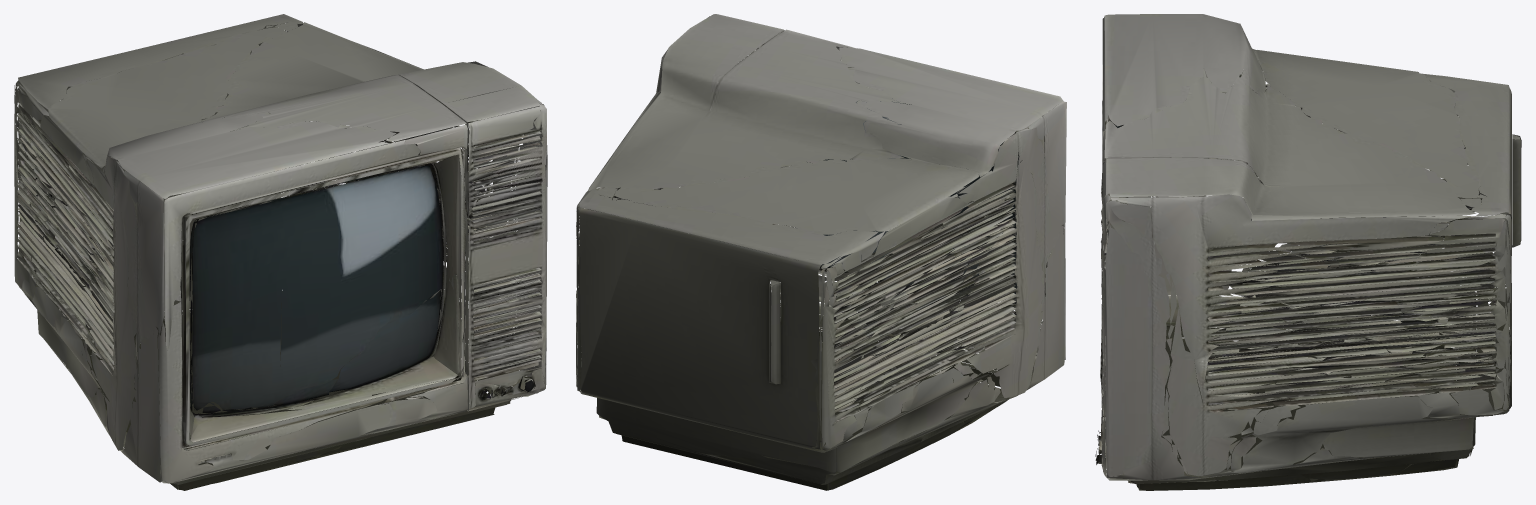
The picture shows the model from 3 angles, left to right: view 1: azimuth 30°, elevation 25°; view 2: azimuth 150°, elevation 25°; view 3: azimuth 270°, elevation 25°; orthographic projection. The views are drawn at different scales.
Visible parts, largest first — view 1: node_0; view 2: node_0; view 3: node_0.
Boxes of the visible parts, x1,y1,x2,y2 form: node_0: (14,14,547,490); node_0: (576,14,1066,490); node_0: (1095,14,1521,490).
Bounding box in the file's own units: 1.28 × 1 × 1.24.
1 material, 1 textured.
